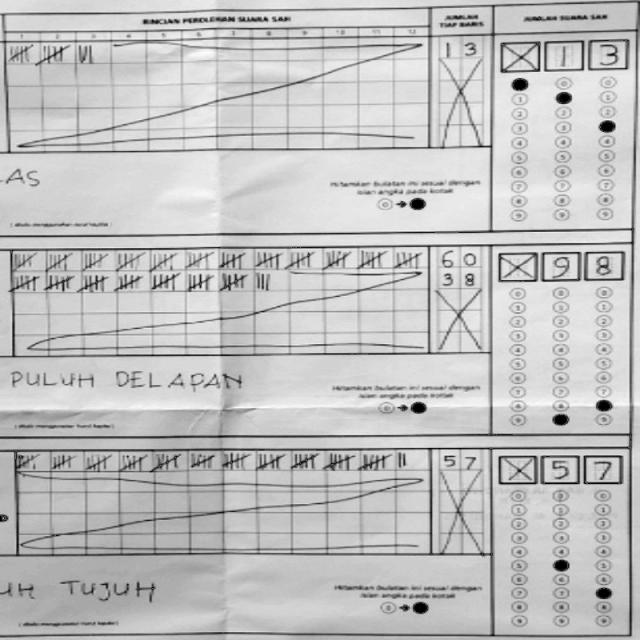Suara: (496, 34, 630, 70), (494, 248, 624, 282), (495, 452, 624, 485)
